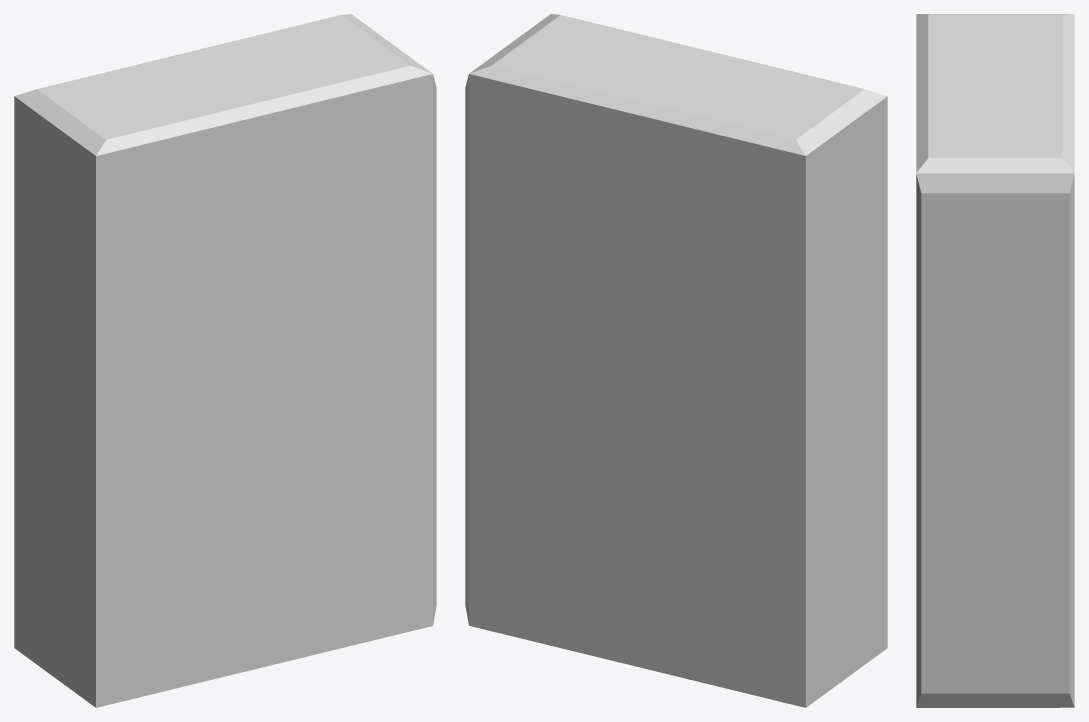
Rendered from Itr_Couch_Inside_Back_06.FBX.
3 renders of one model, left to right at view 1: azimuth 30°, elevation 25°; view 2: azimuth 150°, elevation 25°; view 3: azimuth 270°, elevation 25°, orthographic. The views are drawn at different scales.
Parts seen in each view (by area): view 1: Itr_Couch_Inside_Back_06; view 2: Itr_Couch_Inside_Back_06; view 3: Itr_Couch_Inside_Back_06.
Boxes of the visible parts, box(x1,y1,x2,y2) form: Itr_Couch_Inside_Back_06: box(14, 14, 436, 707); Itr_Couch_Inside_Back_06: box(465, 14, 887, 707); Itr_Couch_Inside_Back_06: box(916, 14, 1074, 707).
Size of the model in its own units: 18.9 by 29.46 by 7.8.
